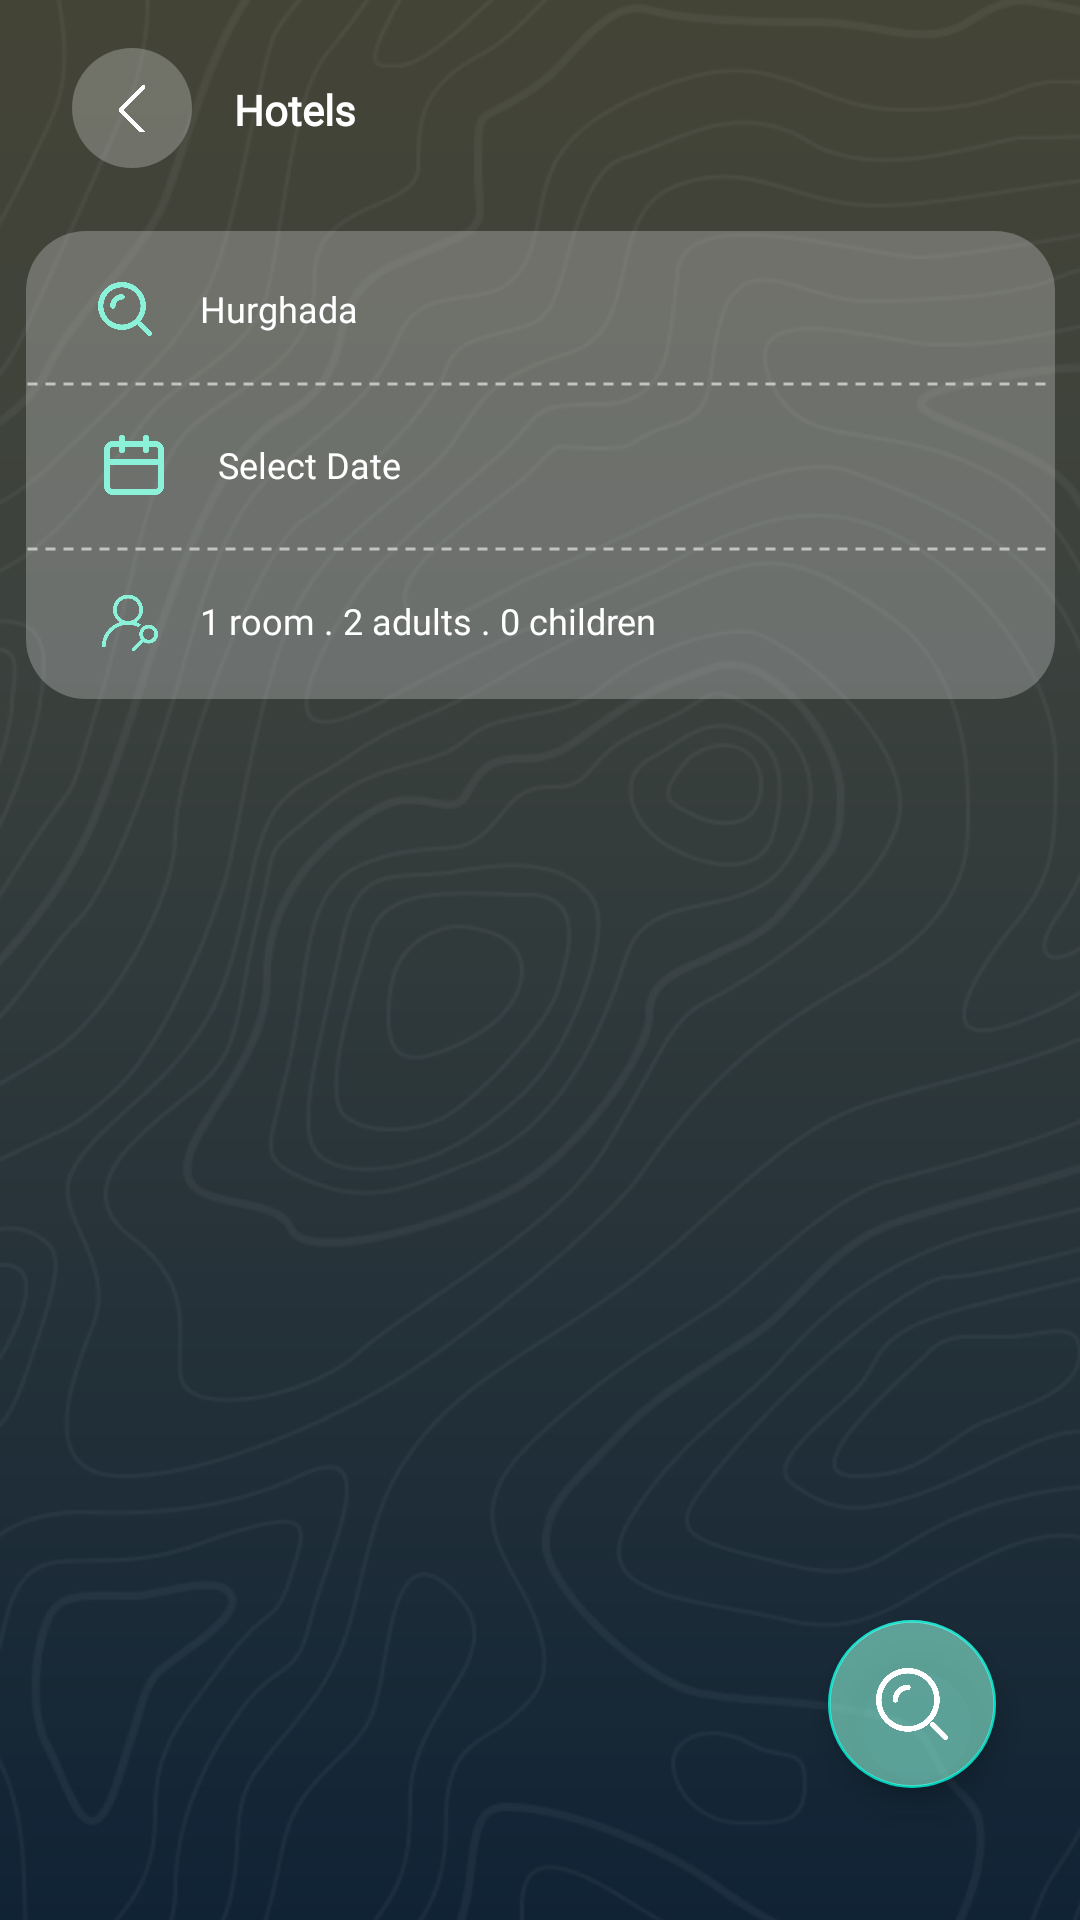

Point at icon controls on the screen. Image size 1080px×1920px, points as (x=x, y=y).
arrow back: (x=132, y=108)
calender: (x=134, y=465)
search: (x=125, y=309), (x=912, y=1704)
travellers search: (x=130, y=623)
